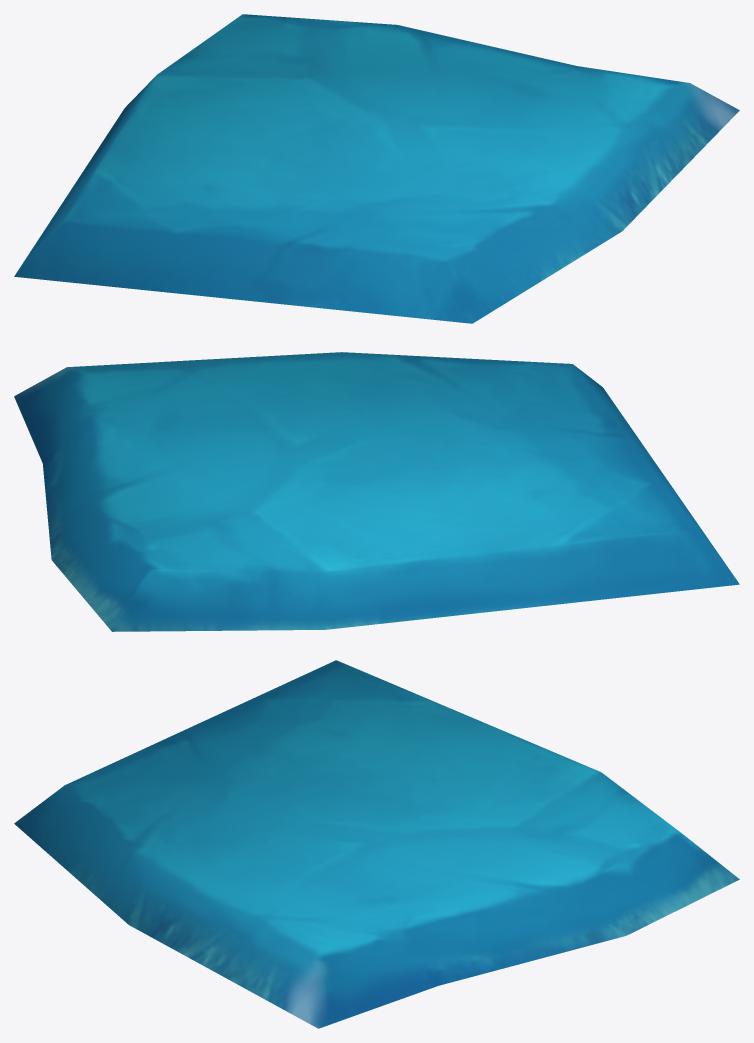
The model's file is BingYingZhong_Bing_10.fbx.
The picture shows the model from 3 angles, top to bottom: view 1: azimuth 30°, elevation 25°; view 2: azimuth 150°, elevation 25°; view 3: azimuth 270°, elevation 25°; orthographic projection. The views are drawn at different scales.
Visible parts, largest first — view 1: BingYingZhong_Bing_10; view 2: BingYingZhong_Bing_10; view 3: BingYingZhong_Bing_10.
Part boxes in pixels (x1,y1,x2,y2): BingYingZhong_Bing_10: [14, 14, 739, 323]; BingYingZhong_Bing_10: [14, 352, 739, 631]; BingYingZhong_Bing_10: [14, 660, 739, 1028].
Bounding box in the file's own units: 377 × 20.25 × 331.
